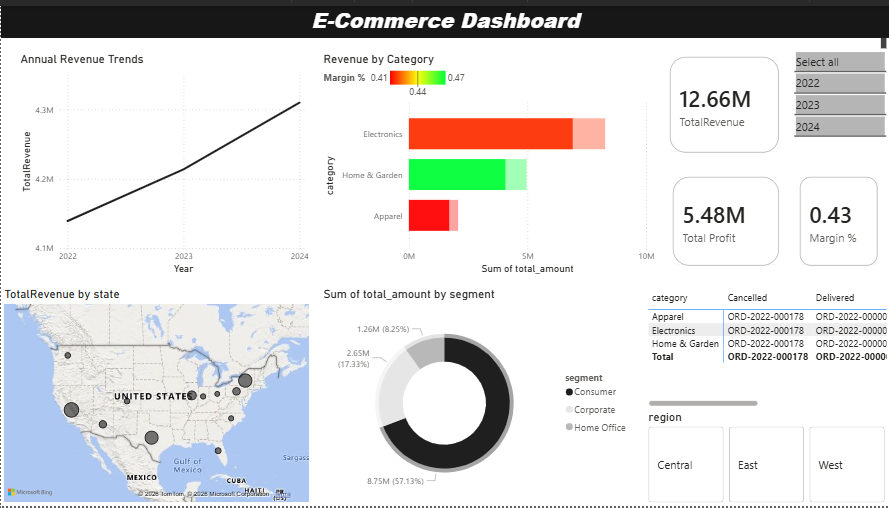

The page's visual inventory and layout, read from the dashboard file:
{"tool":"powerbi","page":{"name":"dashboard","canvas":[1280,720],"ordinal":0},"visuals":[{"type":"lineChart","title":"Annual Revenue Trends","fields":{"Category":["orders.order_date.Variation.Date Hierarchy.Year"],"Y":["order_items.TotalRevenue"]},"box":[23,66.2,424.8,325.4],"z":0},{"type":"map","fields":{"Category":["customers.state"],"Size":["order_items.TotalRevenue"]},"box":[0,404.6,447.8,315.4],"z":1000},{"type":"clusteredBarChart","title":"Revenue by Category","fields":{"Category":["products.category","products.sub_category"],"Y":["Sum(order_items.total_amount)"]},"box":[459.4,66.2,486.7,325.4],"z":2000},{"type":"donutChart","fields":{"Category":["customers.segment"],"Y":["Sum(order_items.total_amount)"]},"box":[459.4,404.6,455,315.4],"z":3000},{"type":"pivotTable","fields":{"Rows":["products.category"],"Columns":["orders.order_status"],"Values":["Min(orders.order_id)"]},"box":[927.4,404.6,352.8,177.1],"z":4000},{"type":"actionButton","box":[0,0,100,40],"z":5000},{"type":"listSlicer","fields":{"Values":["orders.order_date.Variation.Date Hierarchy.Year"]},"box":[1137.6,40.3,142.6,172.8],"z":5001},{"type":"advancedSlicerVisual","fields":{"Values":["customers.region"]},"box":[927.4,581.8,352.8,138.2],"z":5002},{"type":"textbox","title":"E-Commerce Dashboard","box":[0,0,1280.2,66.2],"z":5003},{"type":"cardVisual","fields":{"Data":["order_items.TotalRevenue"]},"box":[946.1,56.2,191.5,172.8],"z":5004},{"type":"cardVisual","fields":{"Data":["order_items.Total Profit"]},"box":[950.4,229,187.2,162.7],"z":5005},{"type":"cardVisual","fields":{"Data":["order_items.Margin %"]},"box":[1133.3,229,146.9,162.7],"z":5006}]}

Visuals, with their boxes in screenshot pixels (x1, y1, x2, y2), scaled from the page's 1280x720 canvas onto the 889x509 screenshot:
"Annual Revenue Trends" lineChart: detection(16, 47, 311, 277)
map - customers.state x order_items.TotalRevenue: detection(0, 286, 311, 508)
"Revenue by Category" clusteredBarChart: detection(319, 47, 657, 277)
donutChart - customers.segment x Sum(order_items.total_amount): detection(319, 286, 635, 508)
pivotTable - products.category x orders.order_status: detection(644, 286, 888, 411)
actionButton: detection(0, 0, 69, 28)
listSlicer - orders.order_date.Variation.Date Hierarchy.Year: detection(790, 28, 888, 151)
advancedSlicerVisual - customers.region: detection(644, 411, 888, 508)
"E-Commerce Dashboard" textbox: detection(0, 0, 888, 47)
cardVisual - order_items.TotalRevenue: detection(657, 40, 790, 162)
cardVisual - order_items.Total Profit: detection(660, 162, 790, 277)
cardVisual - order_items.Margin %: detection(787, 162, 888, 277)
